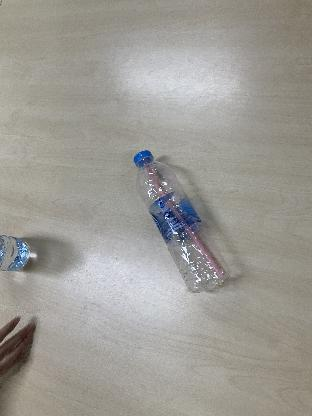Plastic Bottle: (134, 150, 226, 292)
